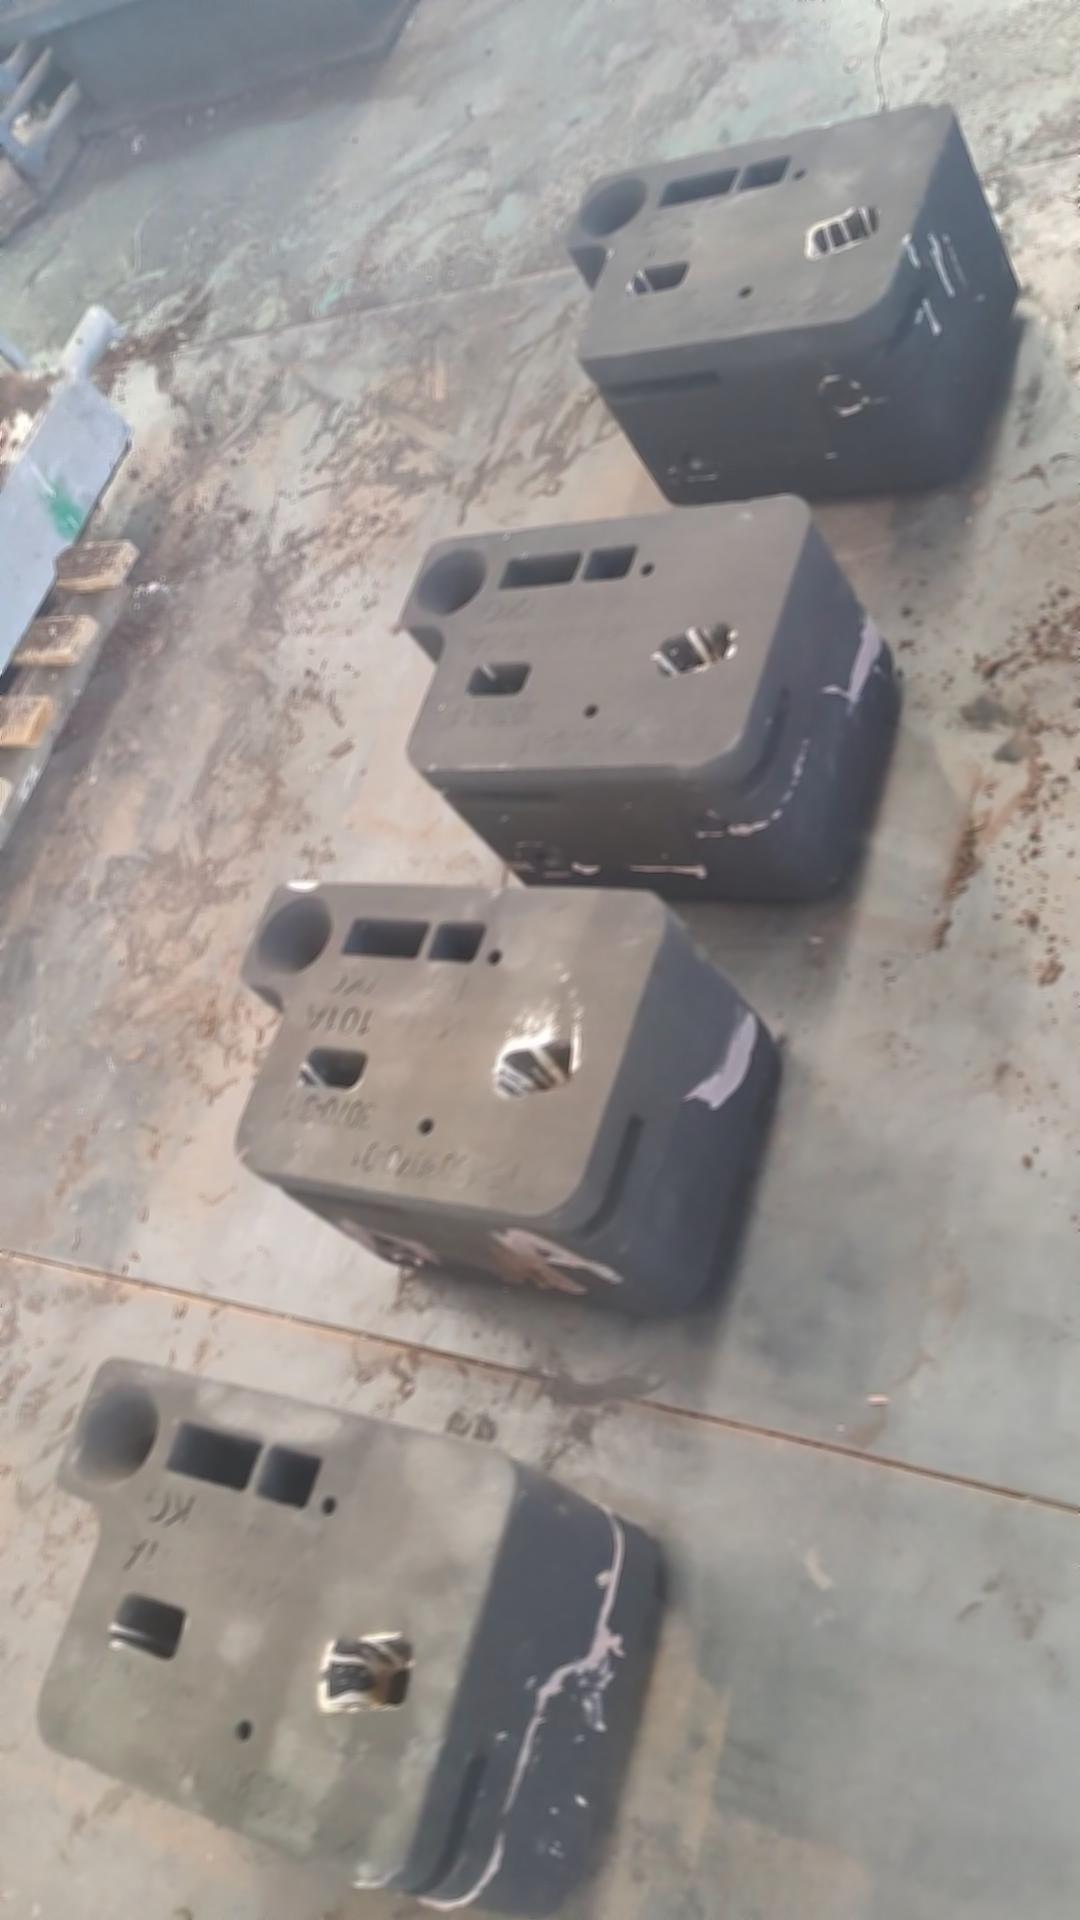pouring hole: (67, 1383, 160, 1487), (252, 895, 334, 975), (415, 549, 487, 615), (575, 175, 649, 235)
